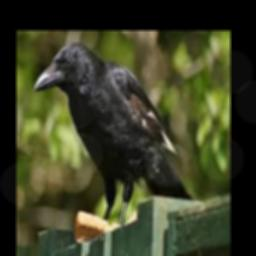Crow: (33, 41, 195, 230)
